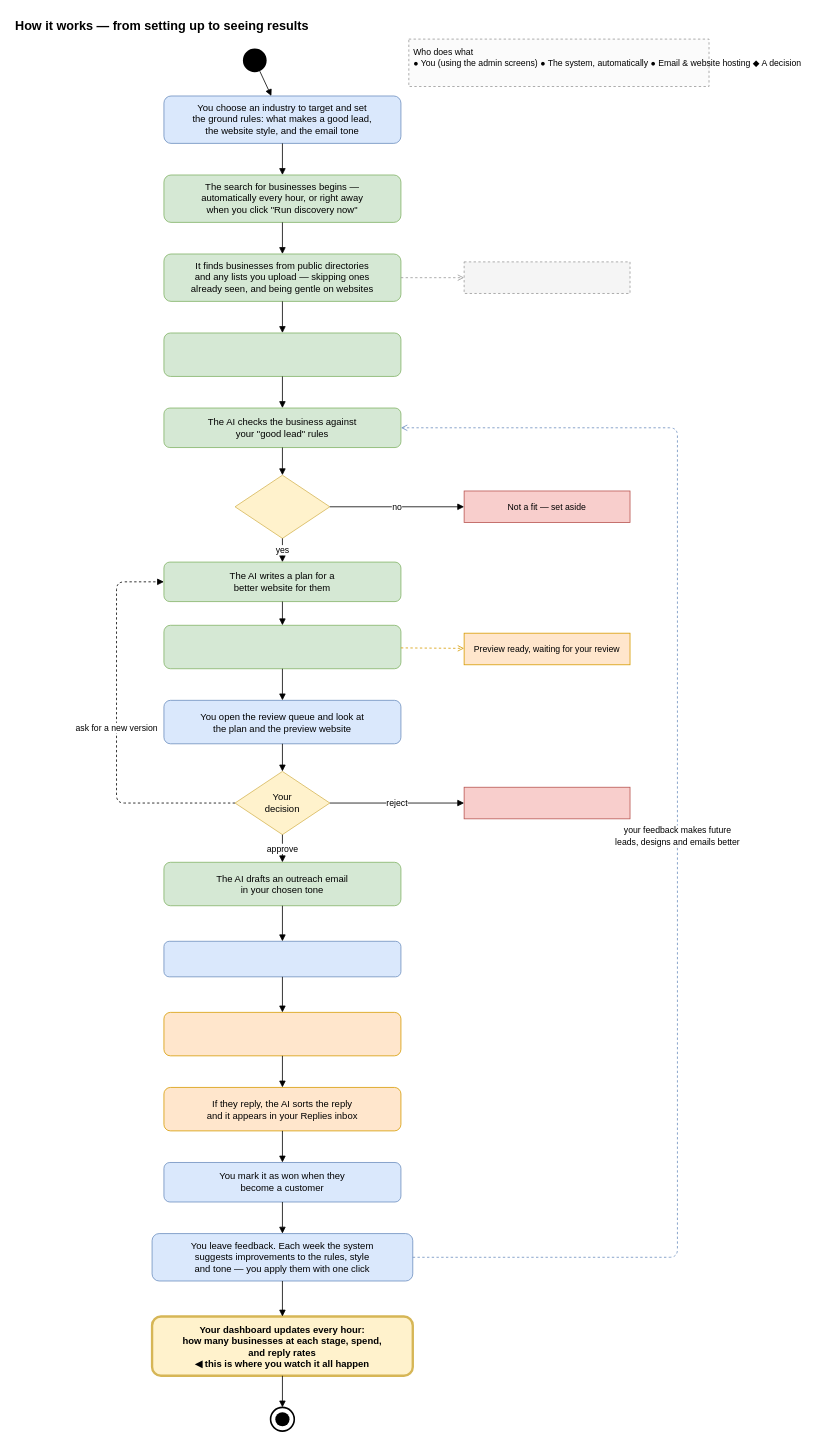
This 814x1445 diagram has some shape labels left out. Here are the shapes that lost their labels. From the top down, the box of each, then its label:
(463, 261, 630, 293): A new business is added to the list
(163, 332, 401, 376): It looks at the business's current website and takes a screenshot
(234, 474, 330, 538): Good enough lead?
(163, 624, 401, 669): The AI builds a private preview of the new website
(463, 786, 630, 819): Reject — drop this one
(163, 940, 401, 977): You read the email and approve it
(163, 1012, 401, 1056): The email is sent to the business (with spend limits, and never twice)
